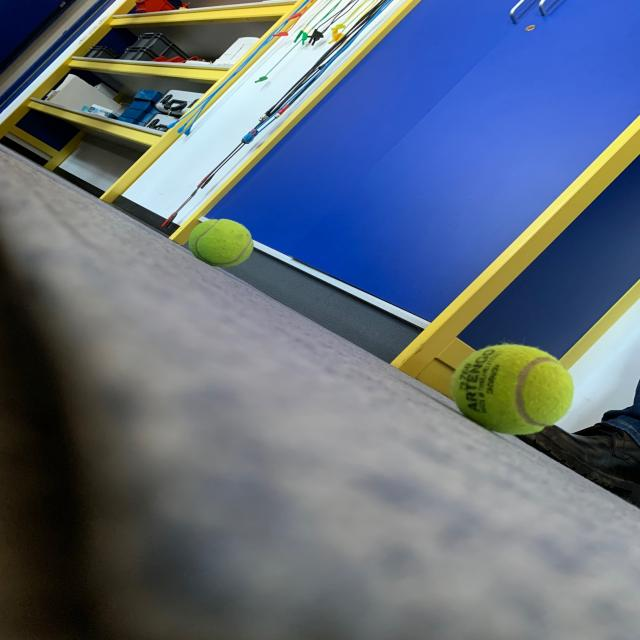Tennis-Ball: (458, 341, 568, 442), (185, 213, 258, 276)
